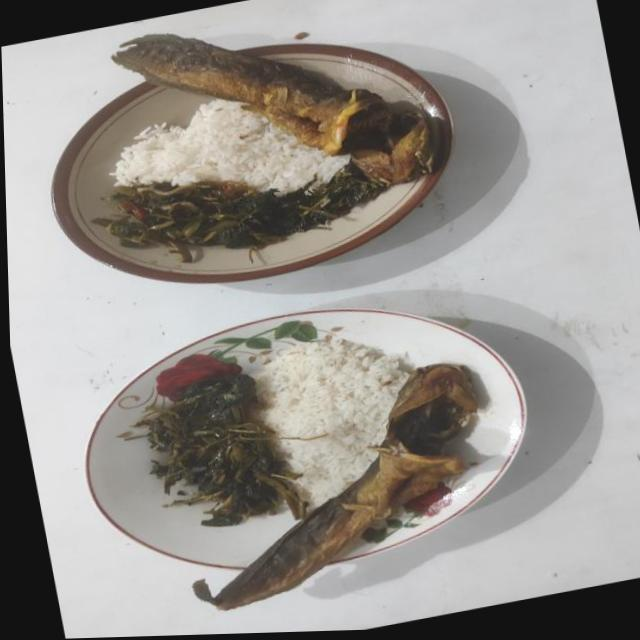nasi_putih: (254, 339, 410, 510), (111, 99, 350, 194)
tumis_kangkung: (92, 162, 385, 264), (136, 374, 308, 526)
